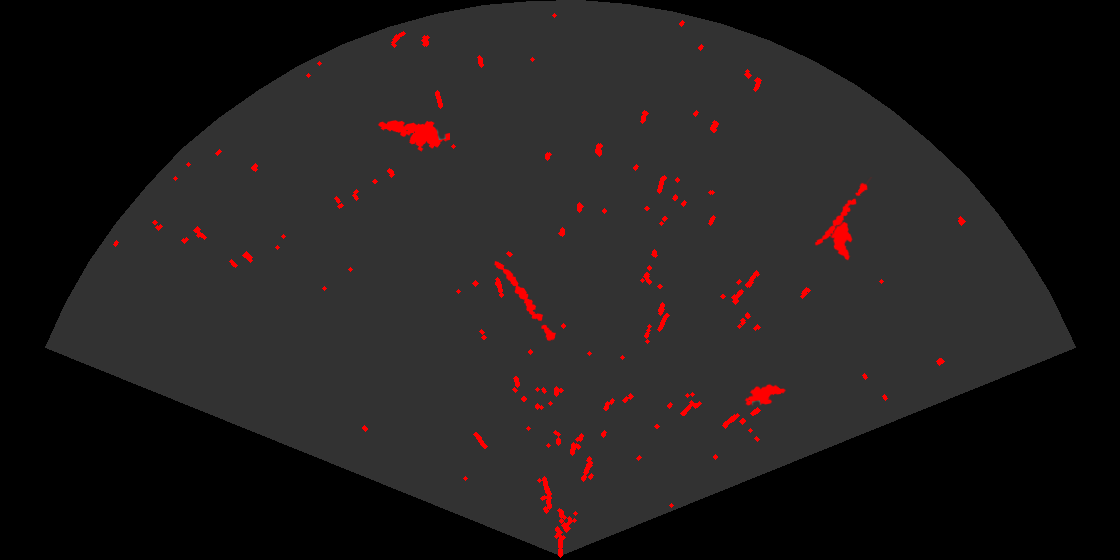AUV: (828, 215, 854, 262), (743, 382, 788, 408)
chain: (493, 259, 558, 343), (813, 177, 874, 247)
frogman: (376, 119, 450, 153)
